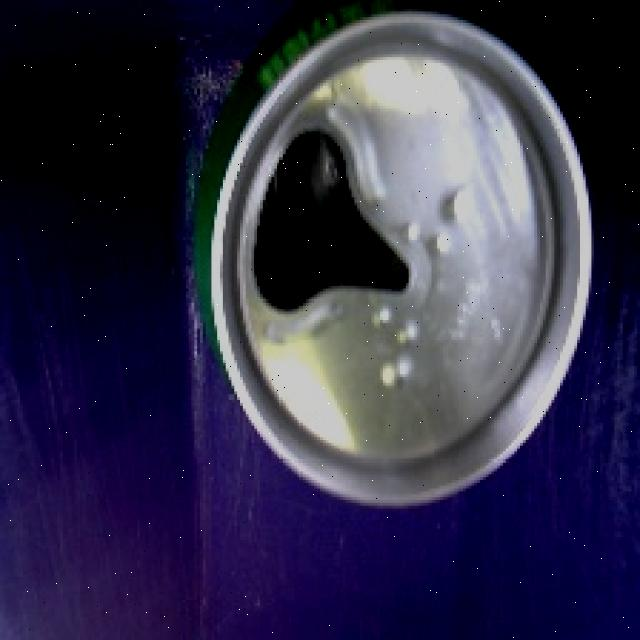metal: (176, 0, 615, 528)
